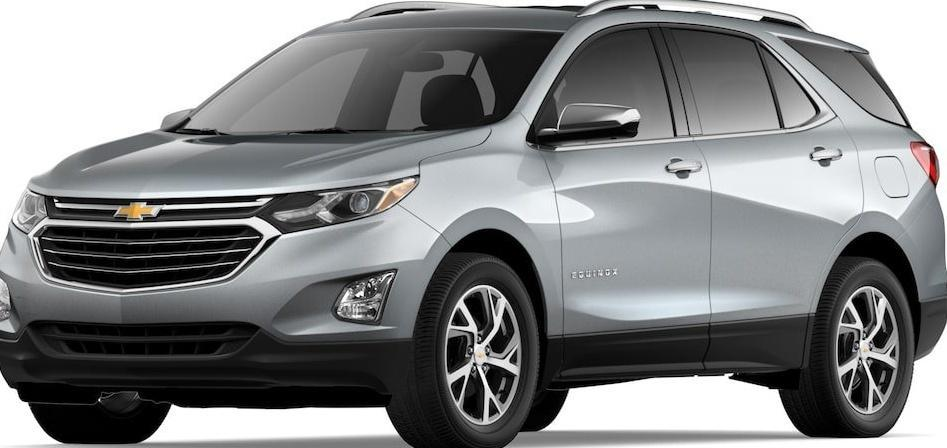Crossovers: (1, 1, 947, 446)
